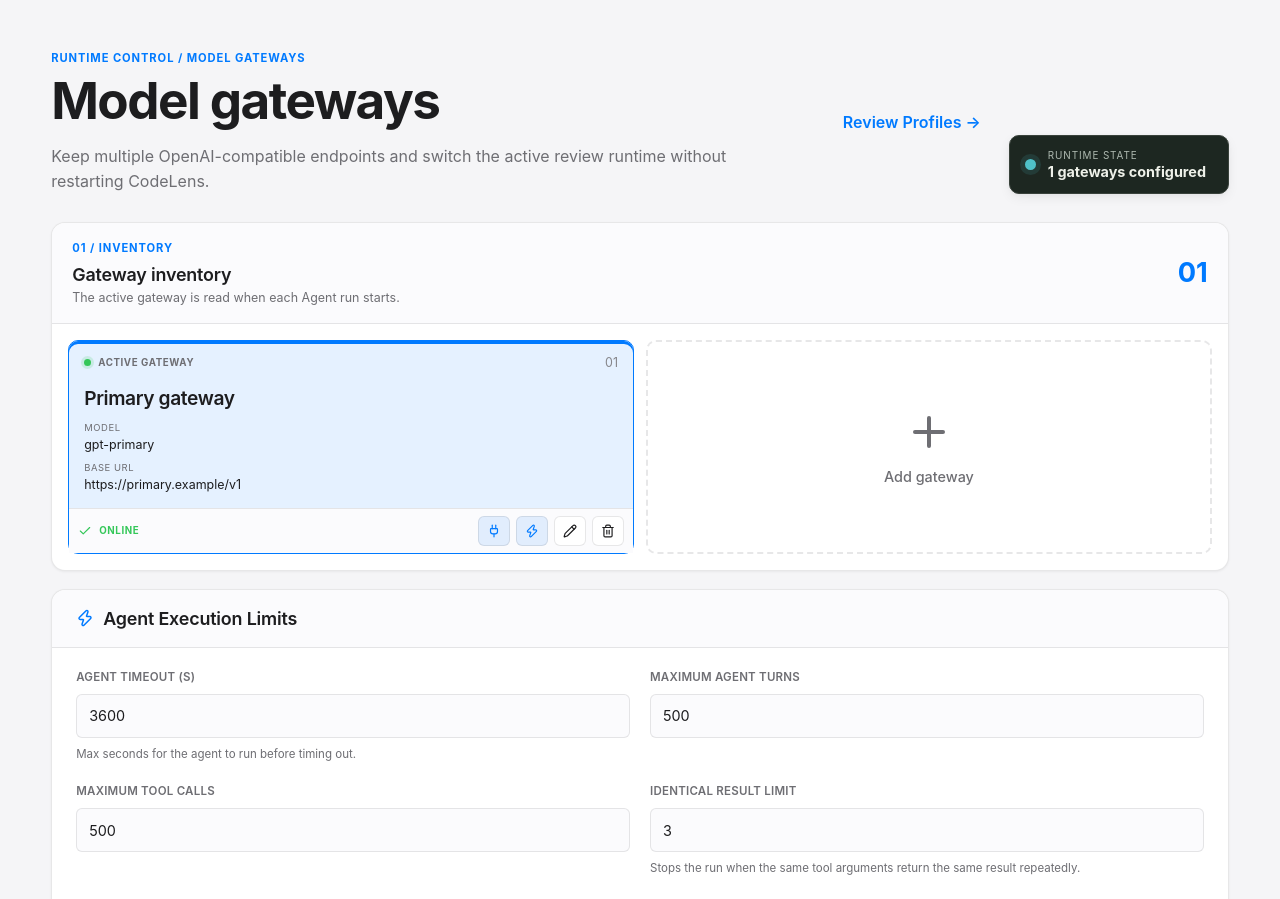
sends an availability test request when the test availability button is clicked
Click the button named "Test availability Primary gateway": coordinates (532, 530) [516,516,548,546]
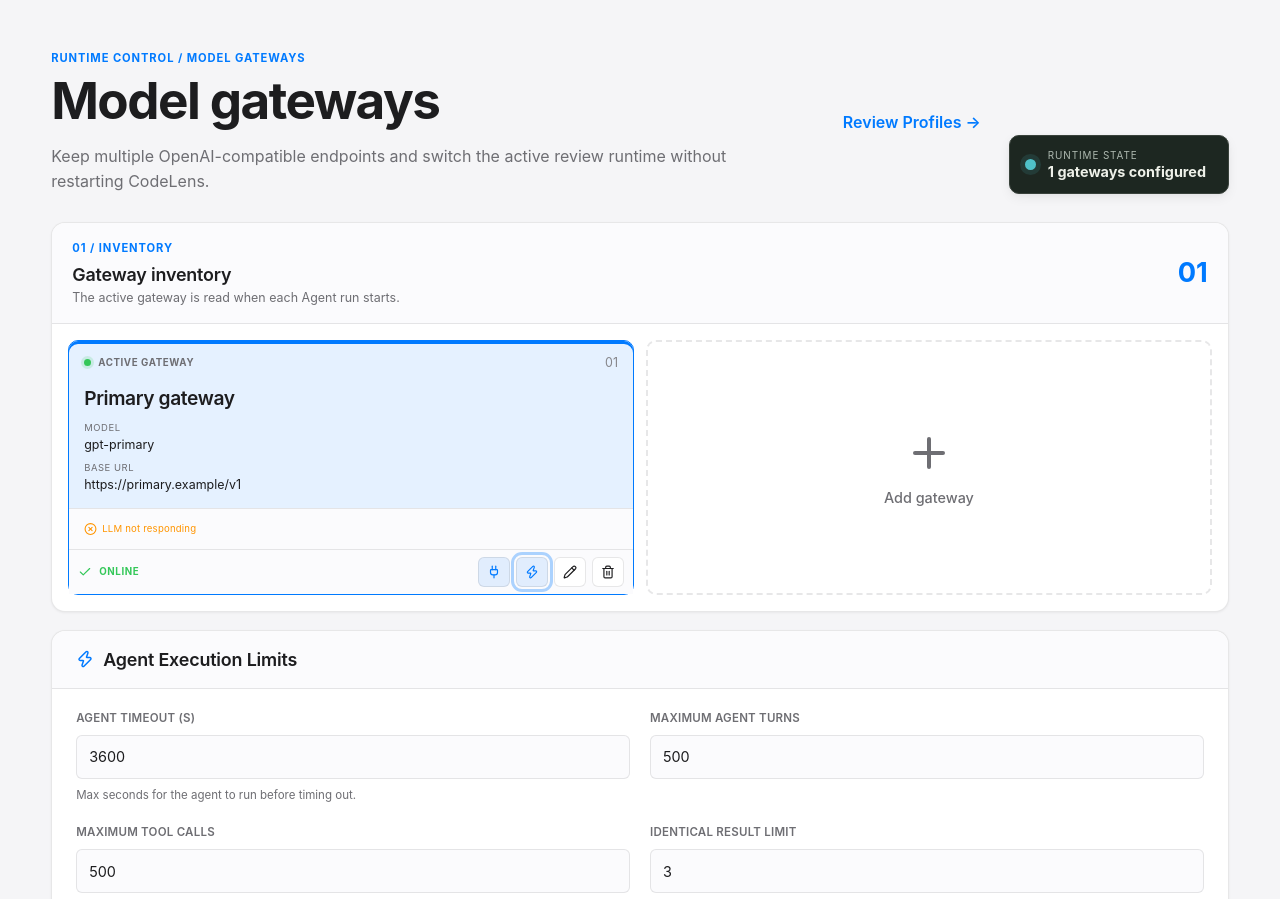
Result: the text "LLM not responding" is shown at [84,516,196,540]
